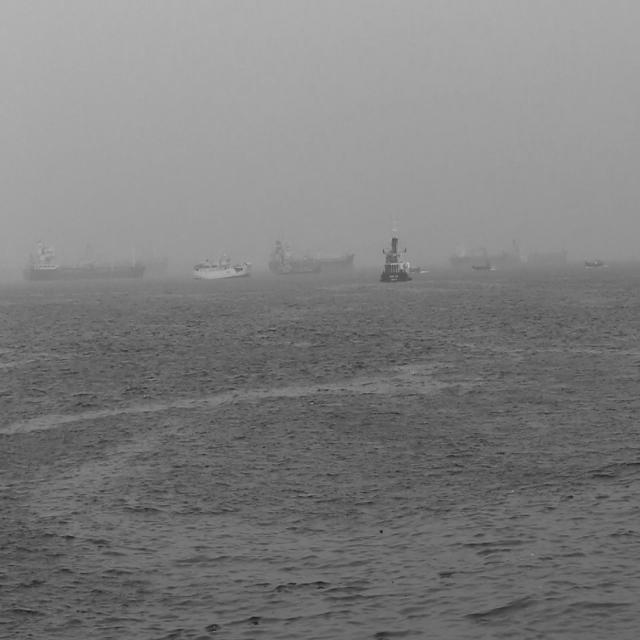ship: (25, 238, 146, 279), (268, 240, 354, 276), (382, 212, 412, 284), (193, 253, 254, 280), (448, 246, 516, 263), (584, 258, 605, 270), (472, 263, 492, 272), (412, 263, 422, 275)
